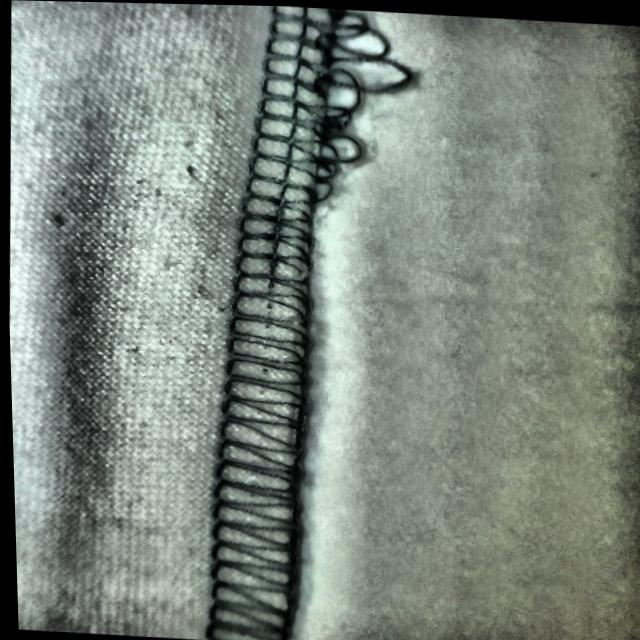Stitch: (236, 4, 418, 204)
